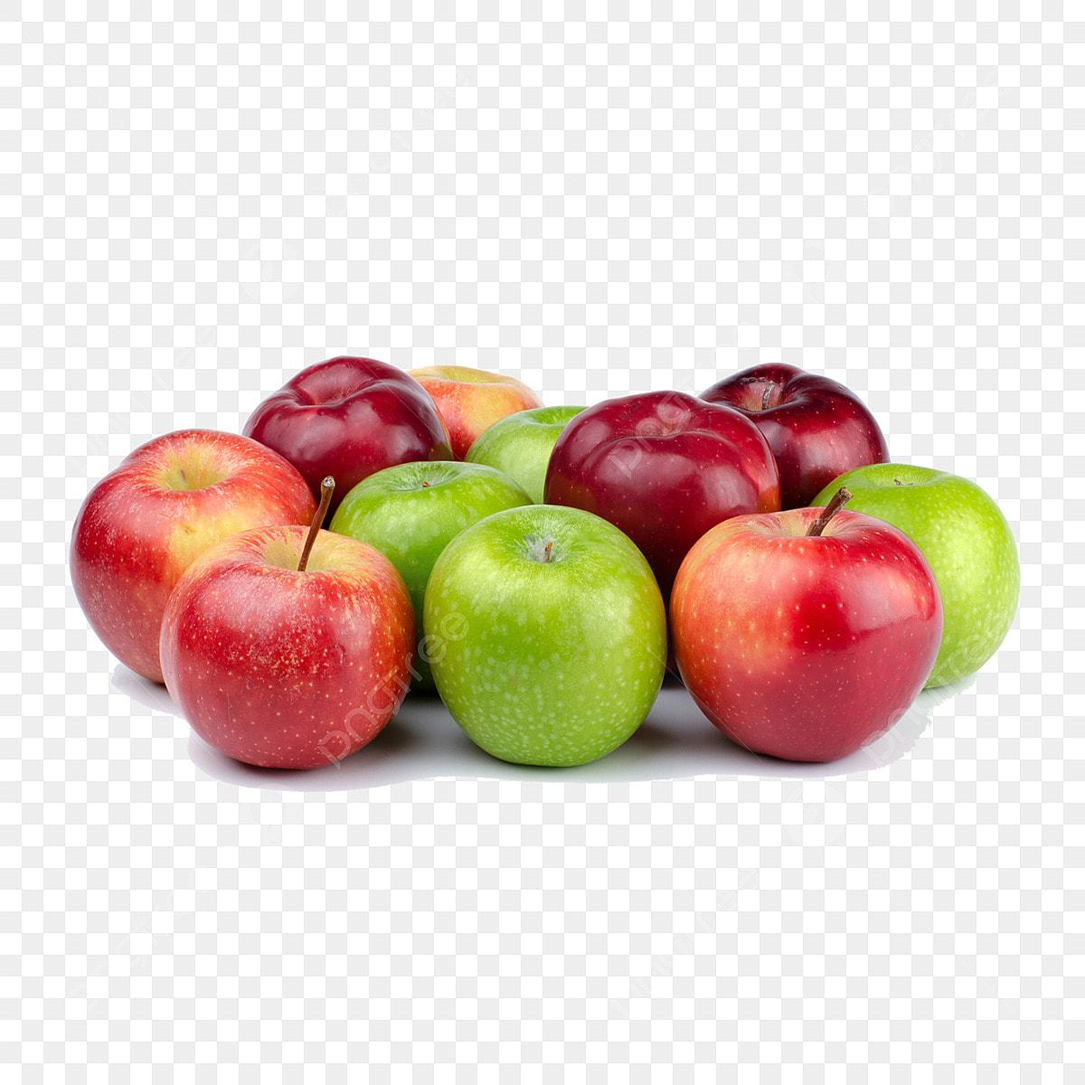apples: (76, 342, 1027, 803)
